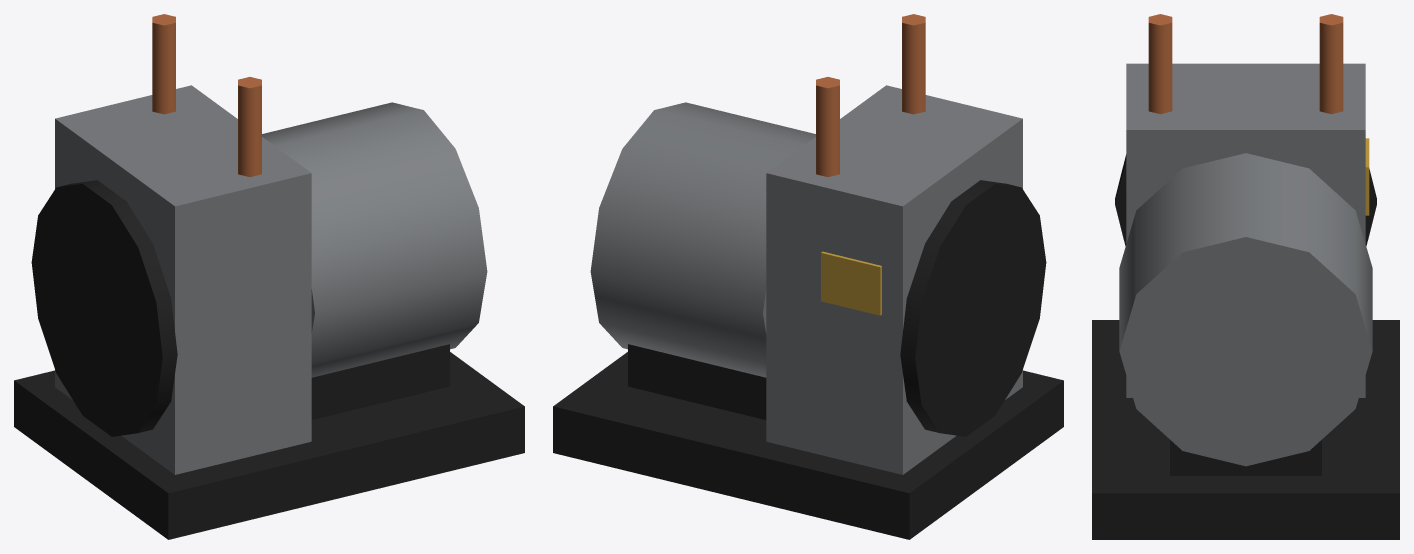
The model's file is parametric-machine-3rd.glb.
3 renders of one model, left to right at view 1: azimuth 30°, elevation 25°; view 2: azimuth 150°, elevation 25°; view 3: azimuth 270°, elevation 25°, orthographic.
Parts seen in each view (by area): view 1: parametric-machine-3rd; view 2: parametric-machine-3rd; view 3: parametric-machine-3rd.
Boxes of the visible parts, x1,y1,x2,y2 form: parametric-machine-3rd: (14, 14, 524, 539); parametric-machine-3rd: (553, 14, 1063, 539); parametric-machine-3rd: (1092, 14, 1399, 539).
Size of the model in its own units: 1.2 by 1.3 by 0.9.
